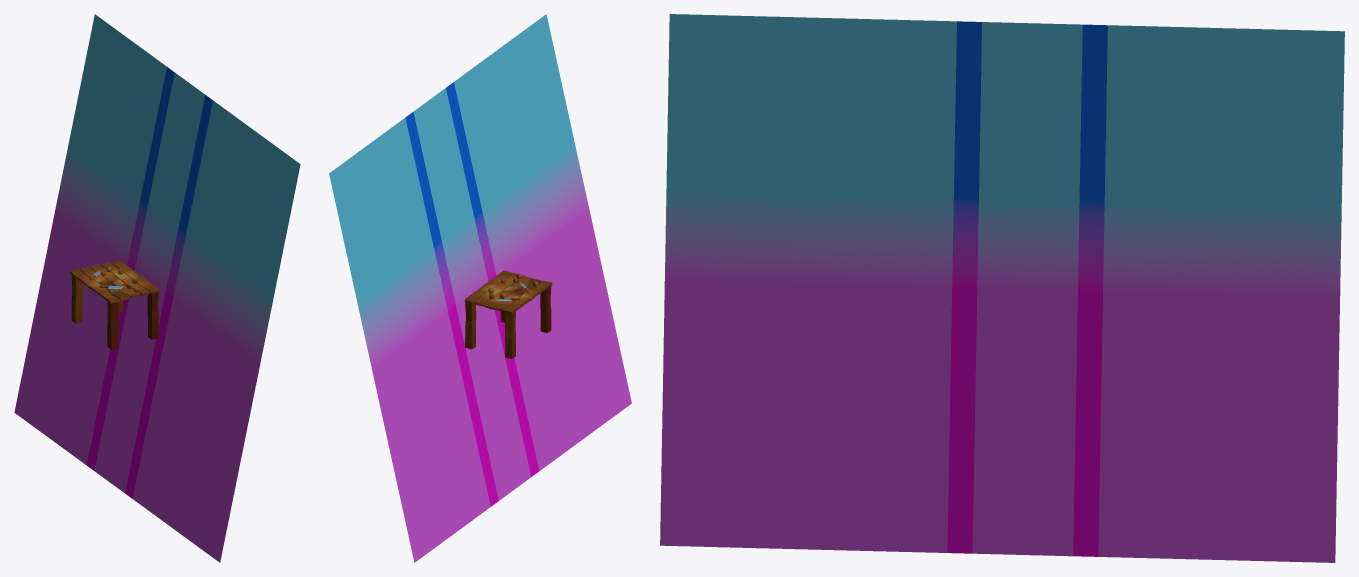
The model's file is фон и стол.fbx.
3 views of the same model, side by side, from view 1: azimuth 30°, elevation 25°; view 2: azimuth 150°, elevation 25°; view 3: azimuth 270°, elevation 25° (orthographic). The views are drawn at different scales.
Visible parts, largest first — view 1: Plane, Cube.013, Cube.006; view 2: Plane, Cube.013, Cube.006; view 3: Plane.
Part boxes in pixels (left/top/right/bottom): Plane: left=14, top=14, right=300, bottom=562; Cube.013: left=70, top=261, right=159, bottom=303; Cube.006: left=71, top=261, right=158, bottom=349; Plane: left=329, top=14, right=631, bottom=562; Cube.013: left=464, top=270, right=552, bottom=313; Cube.006: left=465, top=286, right=551, bottom=358; Plane: left=660, top=14, right=1344, bottom=562.
Size of the model in its own units: 6598 by 22814 by 23290.
